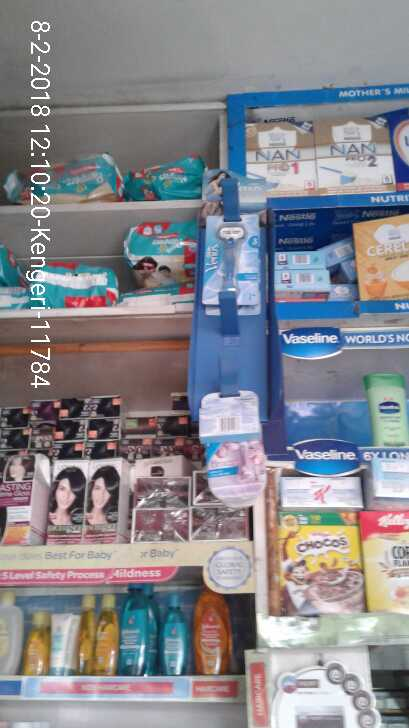beauty: (208, 220, 258, 309)
pharmacy: (130, 230, 200, 296), (19, 159, 117, 202), (29, 268, 115, 313), (129, 167, 207, 206)
